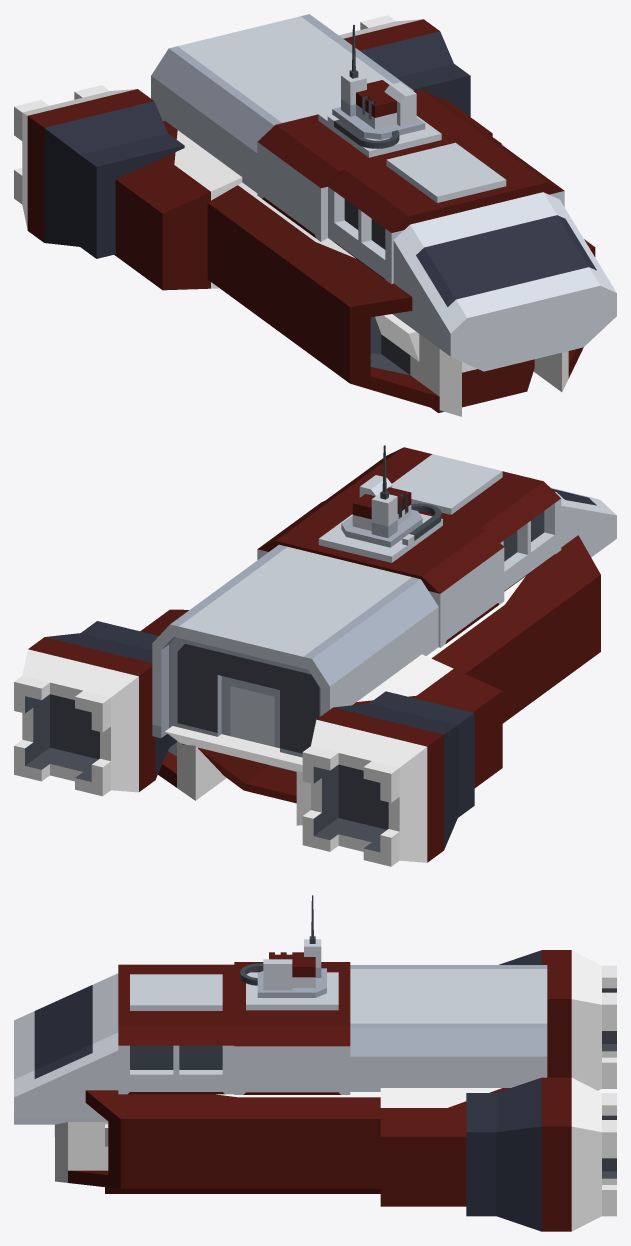
File: cargo_leger_2.glb
3 views of the same model, one above another, from view 1: azimuth 30°, elevation 25°; view 2: azimuth 150°, elevation 25°; view 3: azimuth 270°, elevation 25° (orthographic). The views are drawn at different scales.
Visible parts, largest first — view 1: mergedBlocks(Clone); view 2: mergedBlocks(Clone); view 3: mergedBlocks(Clone).
Part boxes in pixels (bbox=[...]): mergedBlocks(Clone): bbox=[14, 14, 616, 416]; mergedBlocks(Clone): bbox=[14, 445, 616, 866]; mergedBlocks(Clone): bbox=[14, 895, 616, 1231].
Bounding box in the file's own units: 3.6 × 2.59 × 5.2.
Materials: 1 (1 with a texture image).
